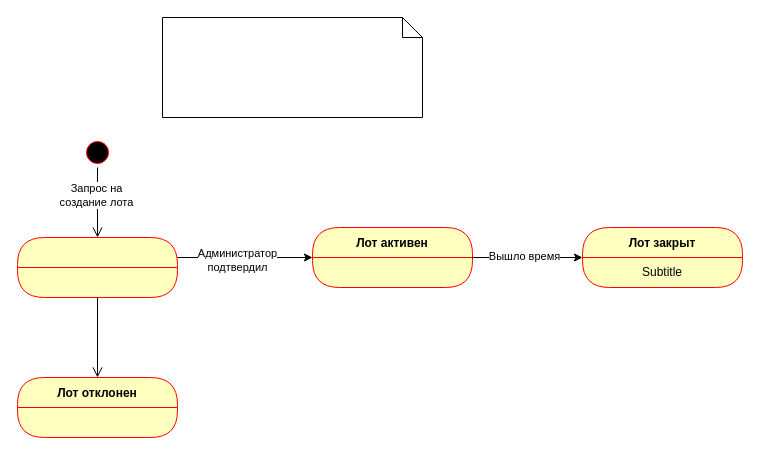
This 760x455 diagram has some shape labels left out. The centre of each missing label's shape, as x and y in pixels:
"Лот на модерации" belongs at pixel 97 267.
"Состояние аукциона" belongs at pixel 292 67.
